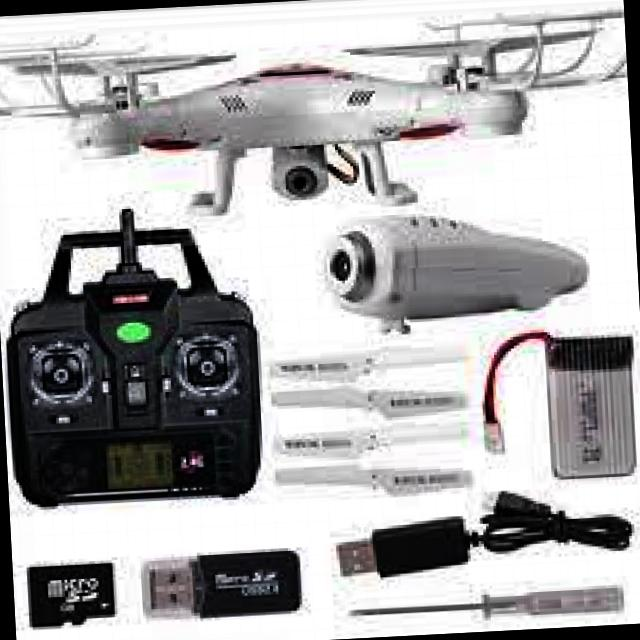drone: (0, 0, 634, 241)
